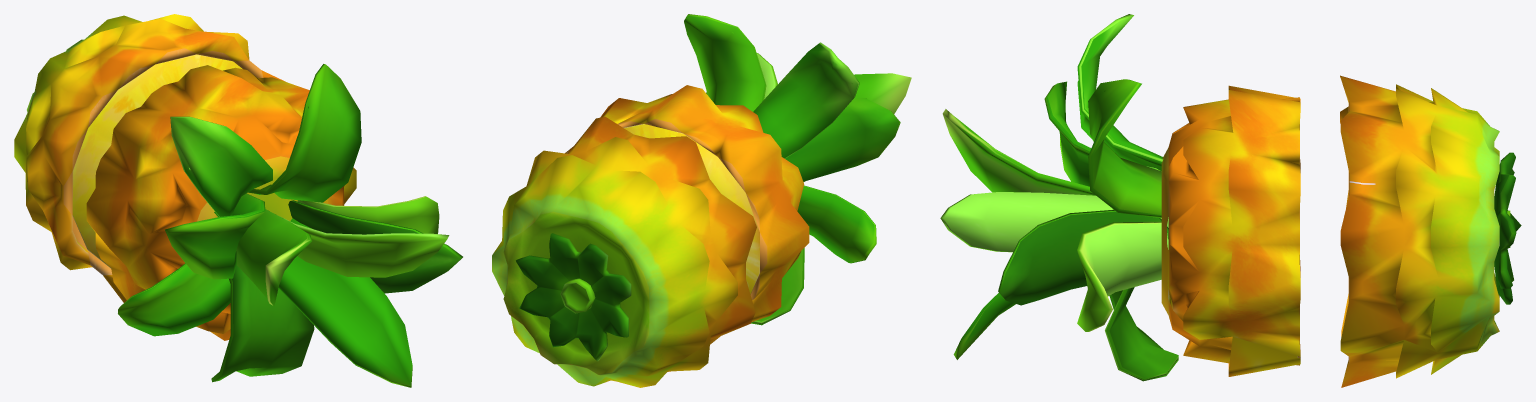
File: PineappleCut.fbx
3 renders of one model, left to right at view 1: azimuth 30°, elevation 25°; view 2: azimuth 150°, elevation 25°; view 3: azimuth 270°, elevation 25°, orthographic. The views are drawn at different scales.
Parts seen in each view (by area): view 1: Pineapple_top, Pineapple_bottom; view 2: Pineapple_bottom, Pineapple_top; view 3: Pineapple_top, Pineapple_bottom.
Boxes of the visible parts, <box> form: Pineapple_top: <box>86,64,462,387</box>; Pineapple_bottom: <box>14,14,285,302</box>; Pineapple_bottom: <box>492,116,756,387</box>; Pineapple_top: <box>600,14,911,325</box>; Pineapple_top: <box>940,14,1300,381</box>; Pineapple_bottom: <box>1340,75,1521,387</box>.
Size of the model in its own units: 273 by 263 by 425.
